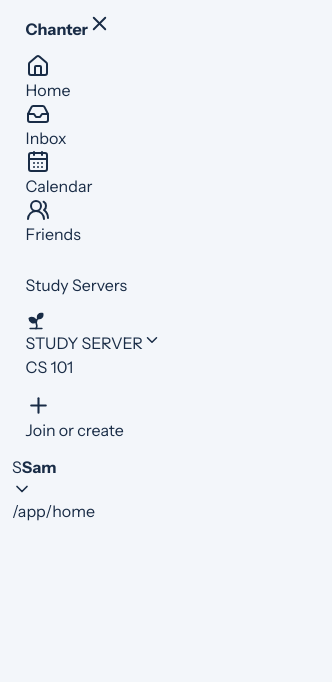
Test: V2Sidebar account menu › signs out from the profile menu and clears the local session
Click the button with aria-label "Open account menu" at [34, 477], box [12,455,56,499]
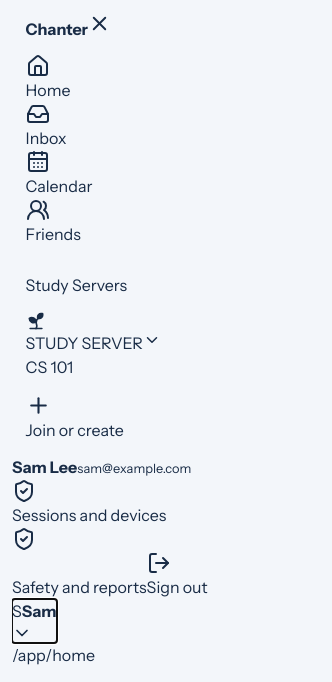
Expected: the menu named "Account" is shown, [12,457,208,599]
Click the menu item "Sign out" at [177, 575], box [147,551,207,599]
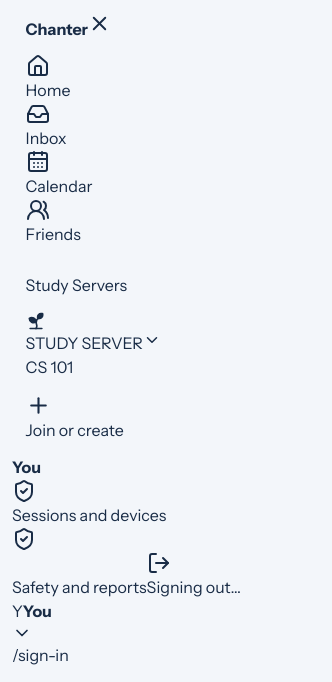
Expected: the text with test id "sidebar-location" reads "/sign-in", [12,645,69,665]
